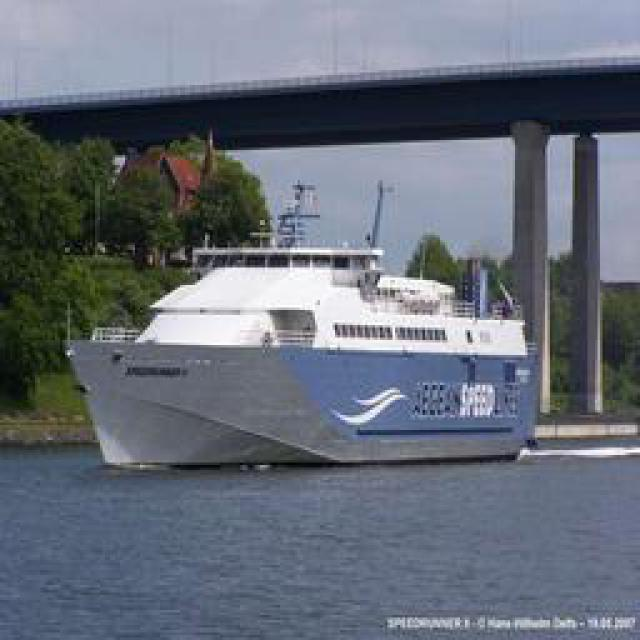Ship: (72, 166, 542, 461)
